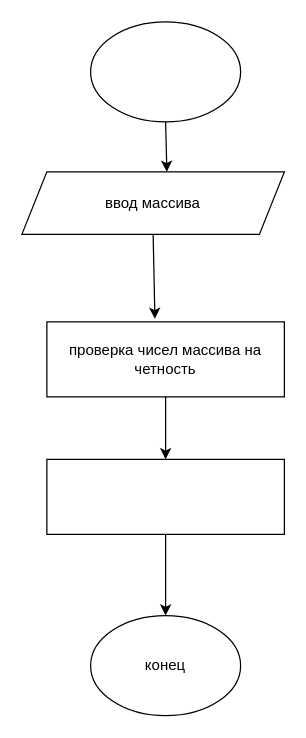
This 306x738 diagram has some shape labels left out. The shapes that lost their labels are listed below. From the top down, each one's box as (x1, y1, x2, y2) in pixels, then its label:
(89, 21, 241, 122): начало
(46, 458, 284, 534): печать четных чисел
